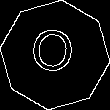O_S: (30, 27, 80, 83)
